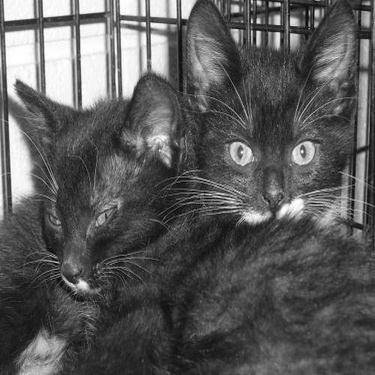cat: (17, 2, 369, 371), (8, 76, 202, 371)
